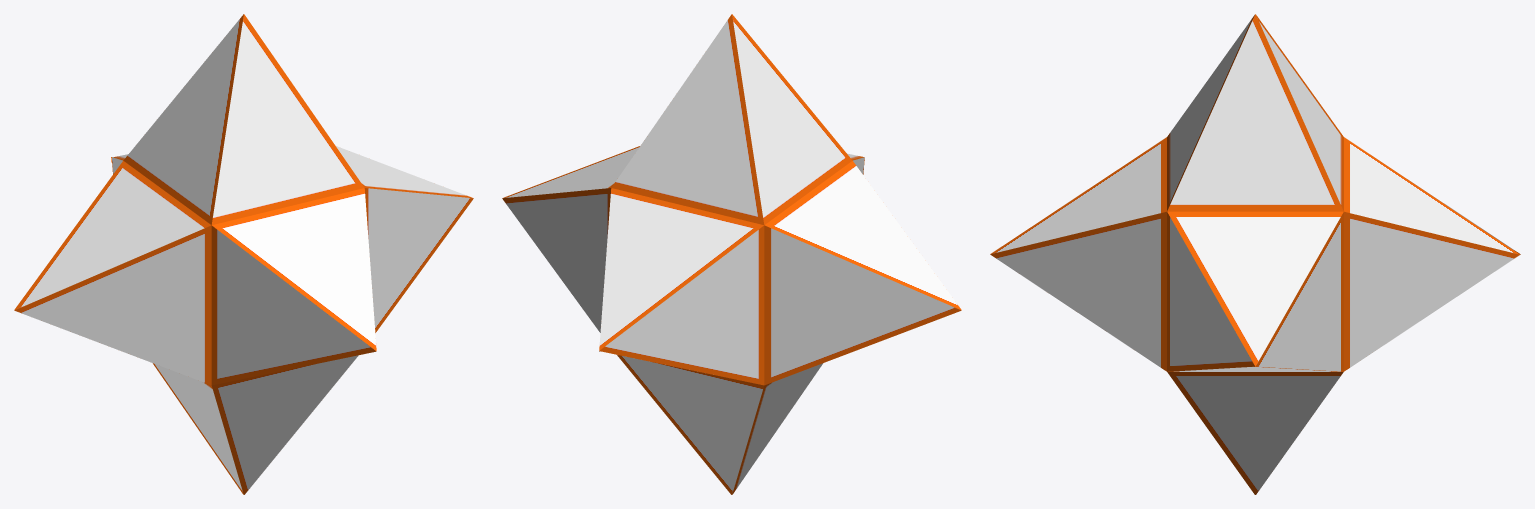
The model's file is Trap.fbx.
3 views of the same model, side by side, from view 1: azimuth 30°, elevation 25°; view 2: azimuth 150°, elevation 25°; view 3: azimuth 270°, elevation 25° (orthographic).
Visible parts, largest first — view 1: Trap; view 2: Trap; view 3: Trap.
Boxes of the visible parts, left/top/right/bottom form: Trap: left=14, top=14, right=473, bottom=494; Trap: left=502, top=14, right=961, bottom=494; Trap: left=990, top=14, right=1520, bottom=494.
Bounding box in the file's own units: 600 × 600 × 600.
1 material, 1 textured.
